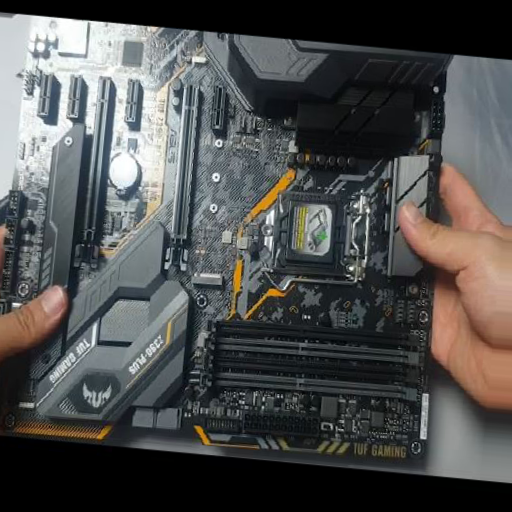CPU: (261, 189, 367, 277)
GPU: (73, 76, 112, 269), (177, 83, 202, 271)
MOTHERBOARD: (20, 10, 443, 461)
RAM: (200, 319, 421, 401)
SSD: (191, 270, 225, 287)
